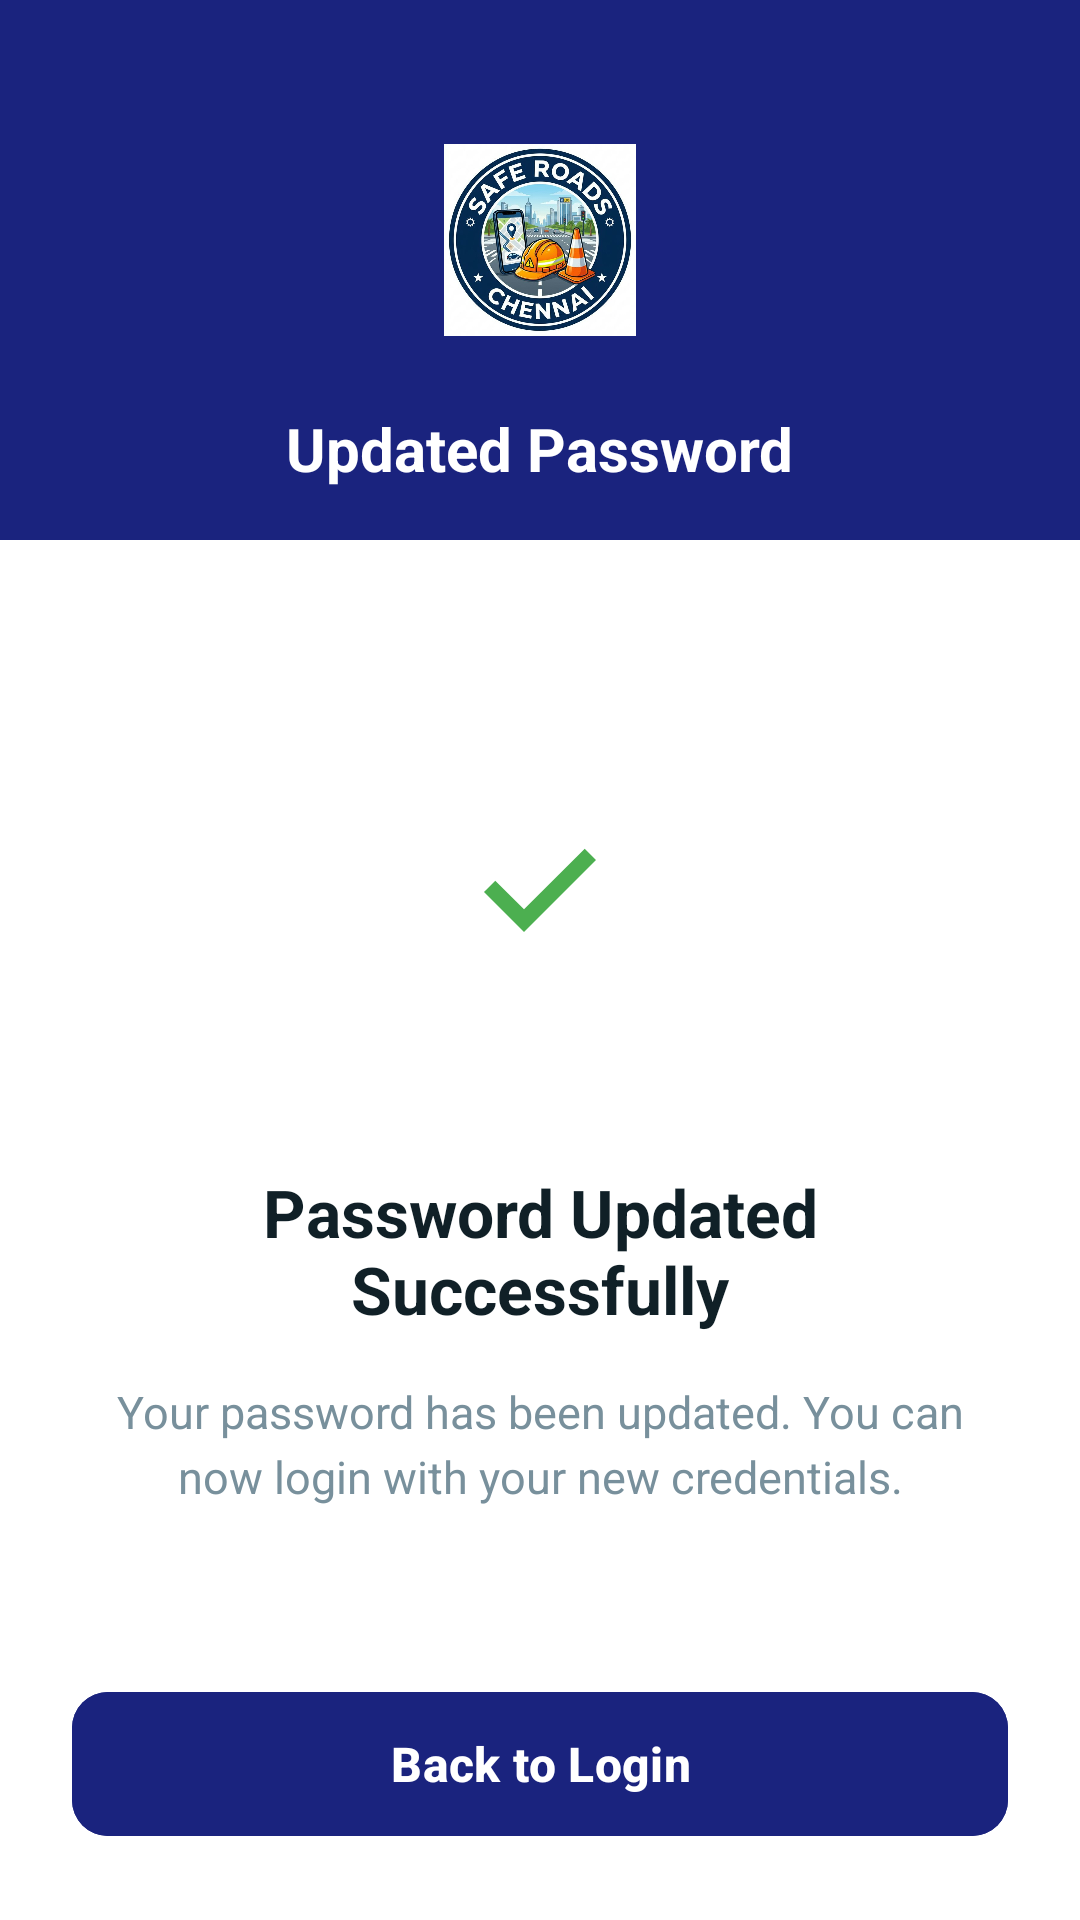

Point at icon controls on the screen. Image size 1080w x 1920h, points as (x,y).
check only: (540,890)
